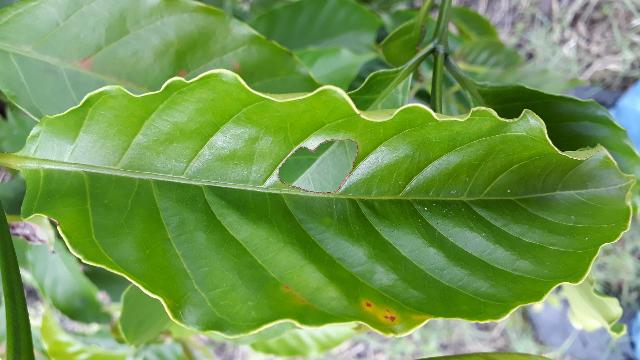rust_level_1: (4, 68, 638, 342)
